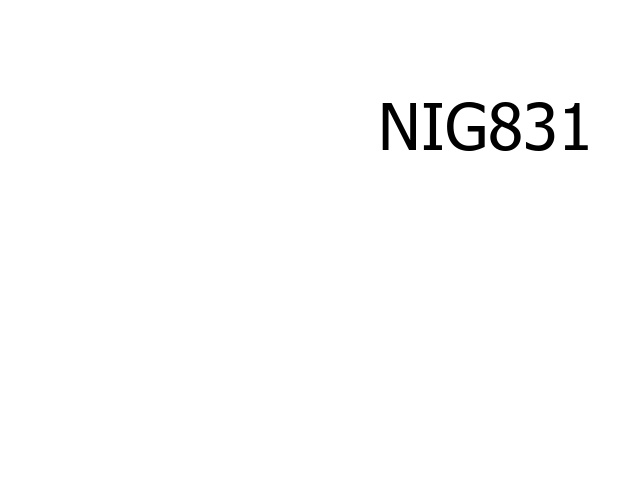OCR_AREA: (374, 98, 597, 155)
